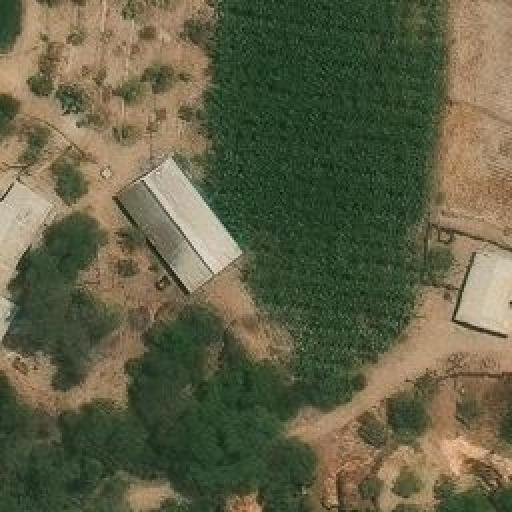manzanas: (109, 152, 247, 303), (445, 247, 510, 352)
